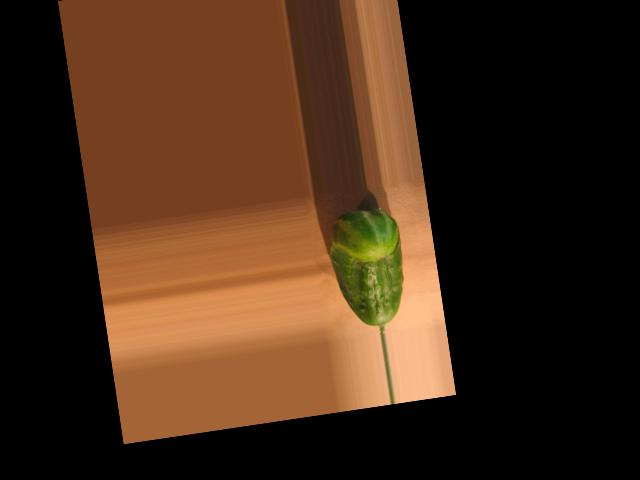cucumber: (325, 205, 413, 331)
